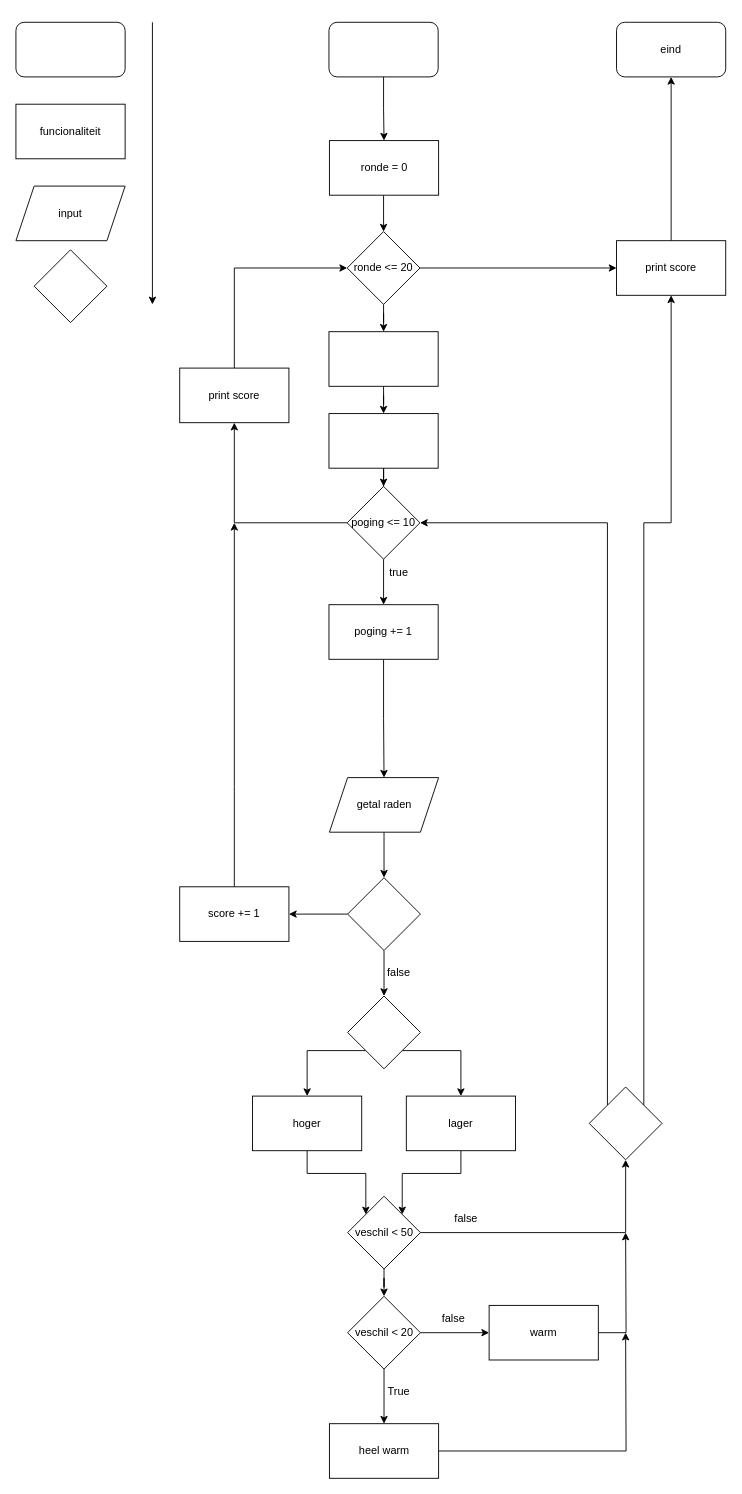
Some shapes in this 742 by 1494 pixel diagram are drawn without their labels. Here are the shapes that lost their labels. From the top down, the centre of each, then its label:
At point 70,49: "start/end".
At point 383,49: "start".
At point 70,286: "conditie".
At point 383,358: "ronde += 1".
At point 383,440: "genereer random getal tussen 1-1000".
At point 383,913: "geraden == teraden".
At point 383,1032: "geraden < teraden".
At point 625,1123: "nog een keer raden?".
